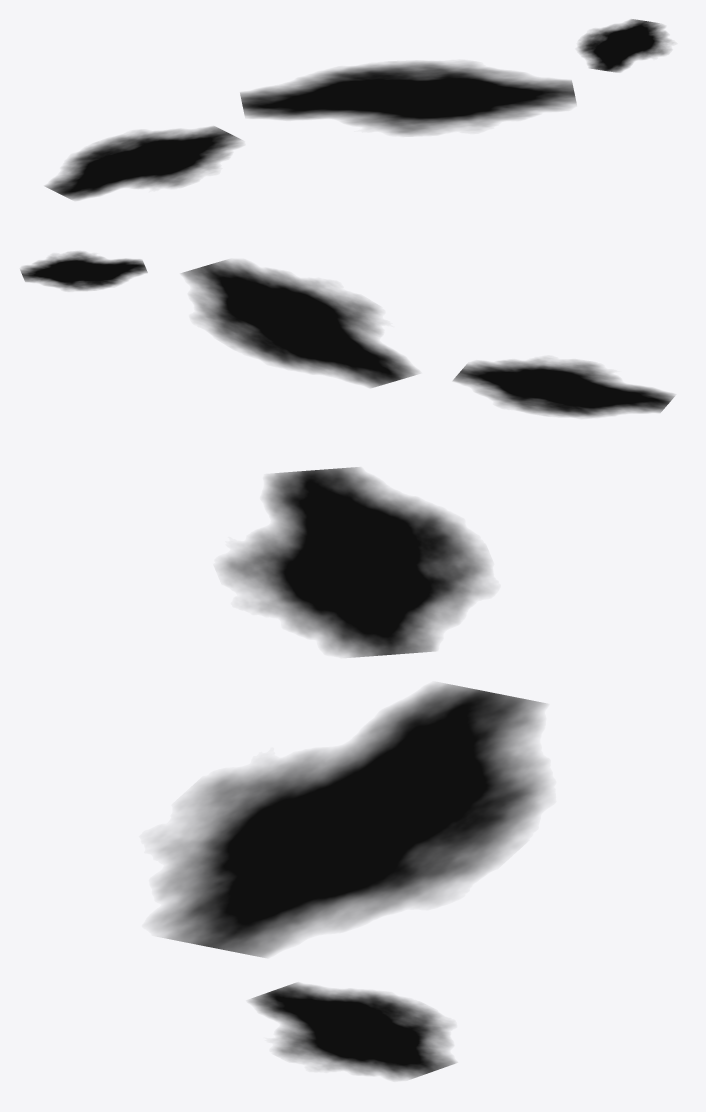
File: puddle_decals.glb
The picture shows the model from 3 angles, top to bottom: view 1: azimuth 30°, elevation 25°; view 2: azimuth 150°, elevation 25°; view 3: azimuth 270°, elevation 25°; orthographic projection. The views are drawn at different scales.
Visible parts, largest first — view 1: puddle_1, puddle_0, puddle_2; view 2: puddle_1, puddle_0, puddle_2; view 3: puddle_1, puddle_0, puddle_2.
Boxes of the visible parts, <box> form: puddle_1: <box>240,61,576,135</box>; puddle_0: <box>45,126,241,199</box>; puddle_2: <box>578,19,670,72</box>; puddle_1: <box>181,260,417,387</box>; puddle_0: <box>453,359,674,417</box>; puddle_2: <box>20,251,147,290</box>; puddle_1: <box>151,683,547,957</box>; puddle_0: <box>220,467,489,657</box>; puddle_2: <box>249,983,455,1079</box>.
Size of the model in its own units: 5.44 by 0 by 2.19.
1 material, 1 textured.
